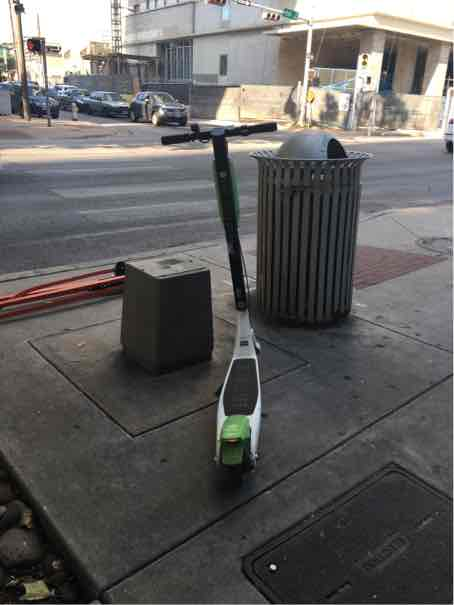scooter: (145, 119, 314, 492)
